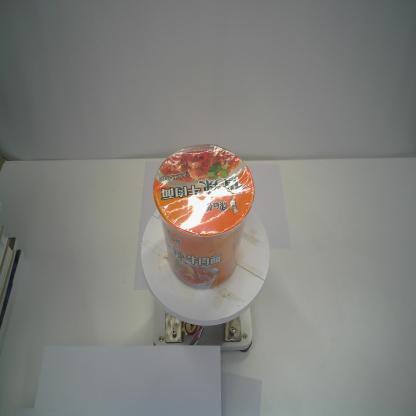Instant Noodles: (151, 142, 257, 292)
